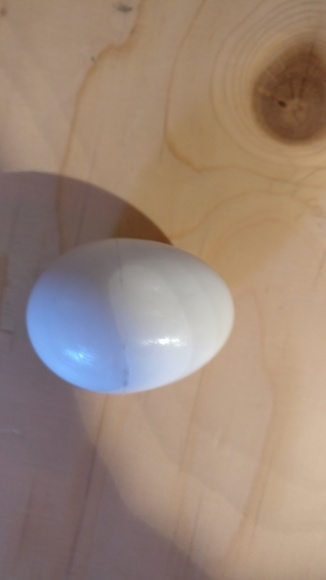egg: (26, 239, 238, 395)
